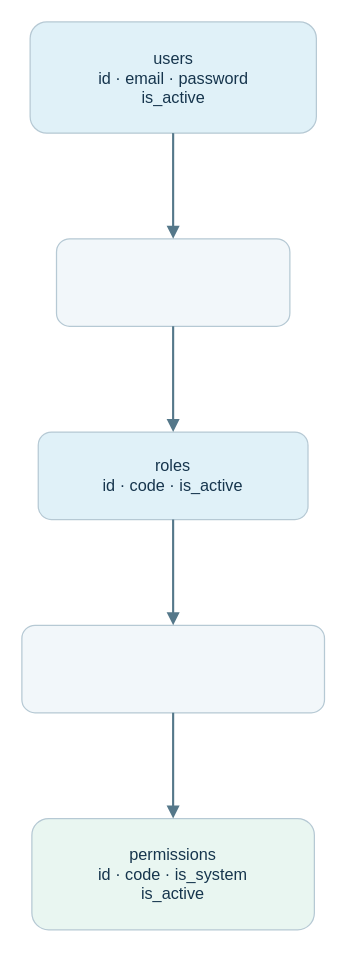
Some shapes in this 348 by 953 pixel diagram are drawn without their labels. Here are the shapes that lost their labels. From the top down, the box of each, then its label:
(55, 238, 290, 326): user_role user_id · role_id
(21, 624, 324, 713): role_permission role_id · permission_id
